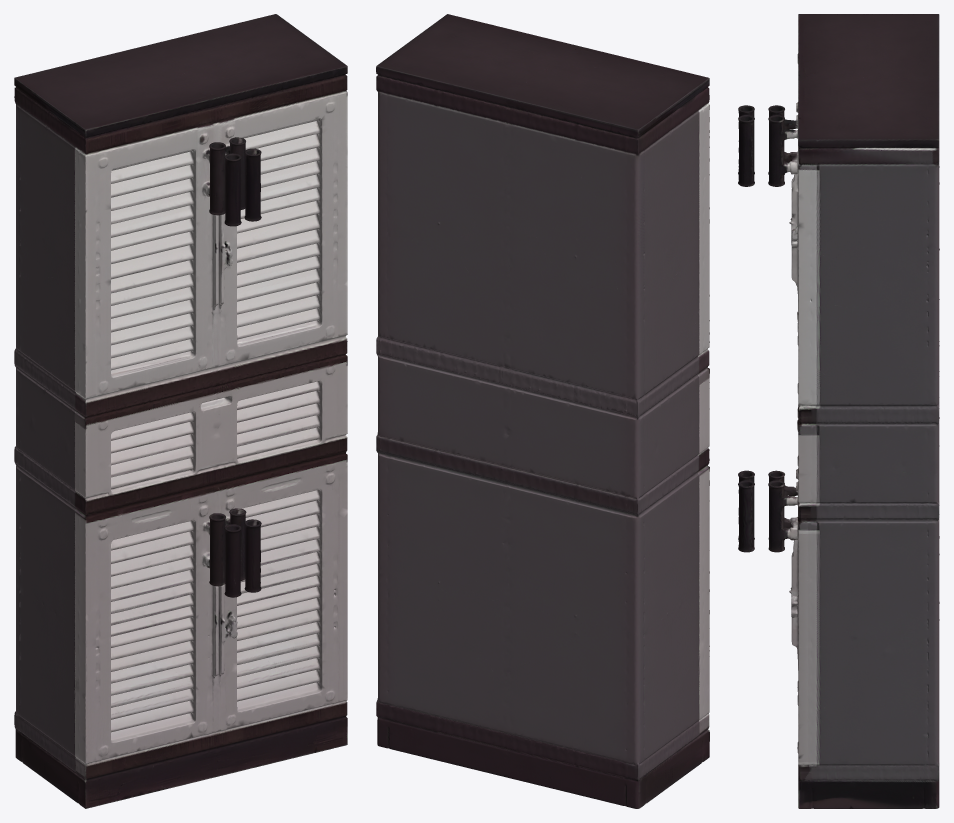
The model's file is 5514DR_Biscuit.glb.
3 renders of one model, left to right at view 1: azimuth 30°, elevation 25°; view 2: azimuth 150°, elevation 25°; view 3: azimuth 270°, elevation 25°, orthographic.
Parts seen in each view (by area): view 1: mesh_node; view 2: mesh_node; view 3: mesh_node.
Part boxes in pixels (x1,y1,x2,y2): mesh_node: [14, 14, 347, 808]; mesh_node: [376, 14, 709, 808]; mesh_node: [738, 14, 939, 808].
Size of the model in its own units: 0.583 by 1.44 by 0.3937.
1 material, 1 textured.
